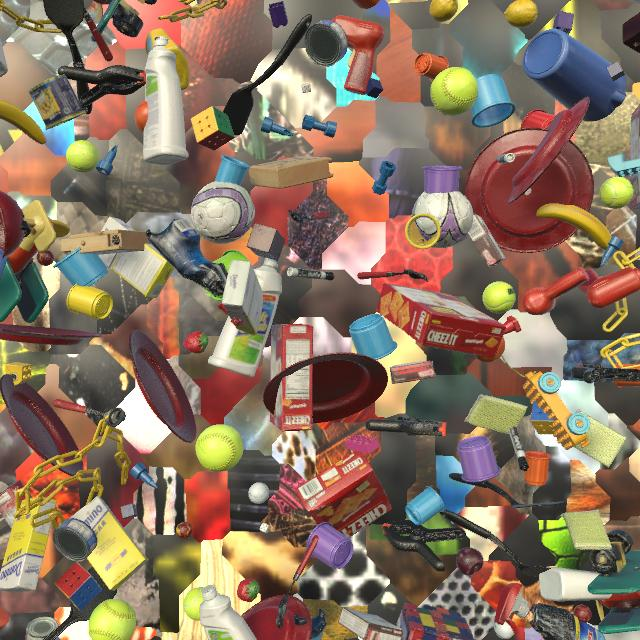ycb_003_cracker_box: (376, 283, 506, 357), (295, 451, 392, 538), (270, 324, 313, 431), (630, 104, 640, 209)
ycb_004_sugar_box: (69, 496, 149, 591), (98, 217, 174, 298), (0, 496, 57, 592), (222, 260, 263, 336), (628, 0, 640, 4)
ycb_005_tomato_soup_can: (0, 480, 33, 529), (26, 617, 58, 640)
ycb_006_mustard_bottle: (145, 28, 190, 90)
ycb_007_tuna_fish_can: (304, 20, 348, 67), (52, 518, 97, 562)
ycb_008_pudding_box: (338, 607, 403, 640), (468, 214, 506, 267), (390, 361, 436, 384)
ycb_010_potted_meat_can: (29, 74, 86, 130)
ycb_011_banana: (536, 203, 611, 250), (0, 99, 46, 144)
ycb_012_strawberry: (183, 331, 209, 354), (237, 578, 260, 602)
ycb_014_lemon: (503, 0, 539, 28), (430, 0, 458, 22)
ycb_017_orange: (474, 337, 505, 362), (135, 101, 148, 133)
ycb_018_plum: (456, 547, 484, 576)
